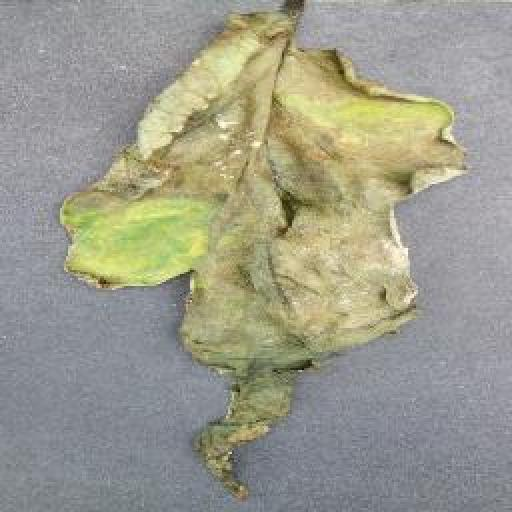Late Blight: (60, 9, 465, 500)
